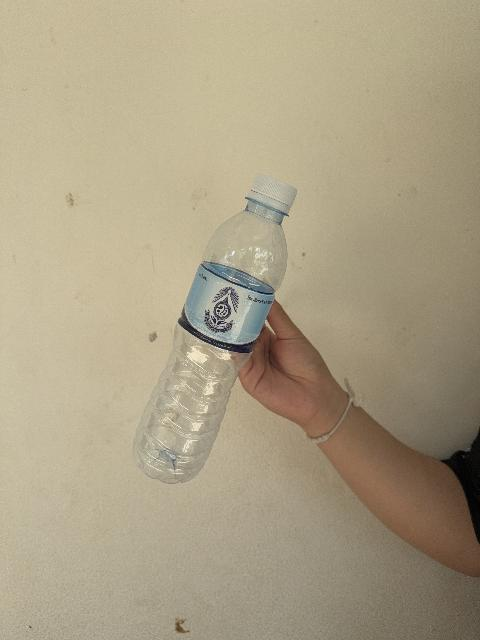bottle: (134, 175, 296, 483)
